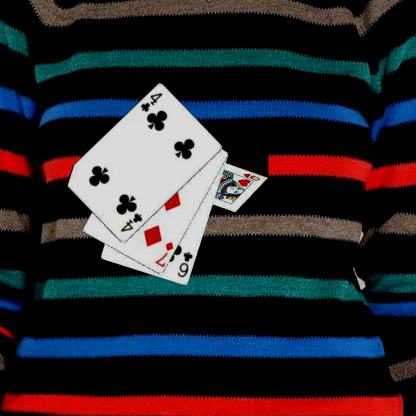4C: (138, 90, 164, 114), (118, 210, 144, 233)
6C: (174, 249, 193, 279)
7D: (152, 239, 174, 268)
